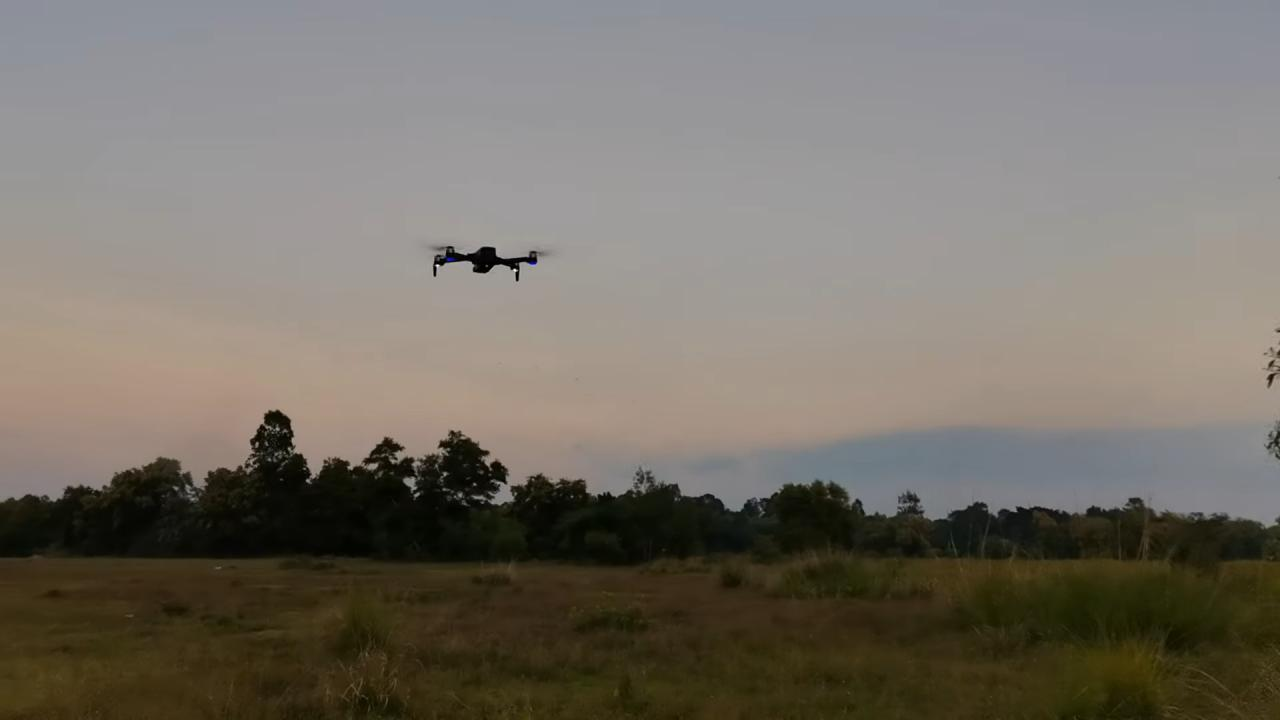Drone: (413, 227, 564, 293)
